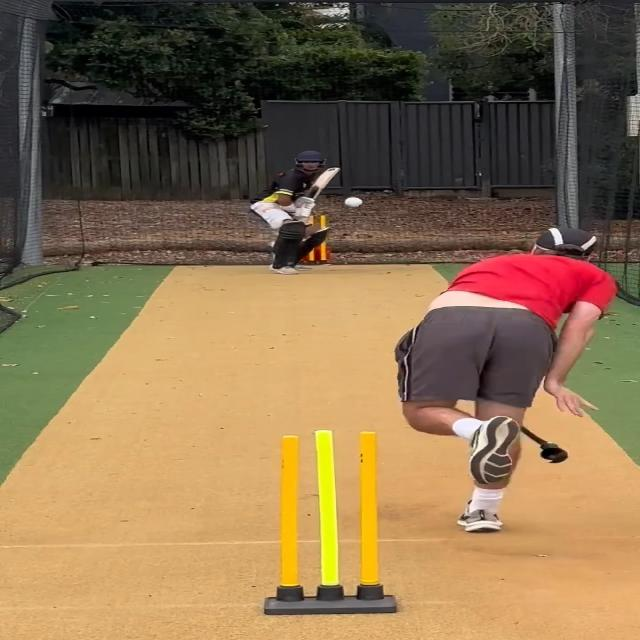ball: (342, 196, 364, 210)
stump: (262, 430, 399, 614)
